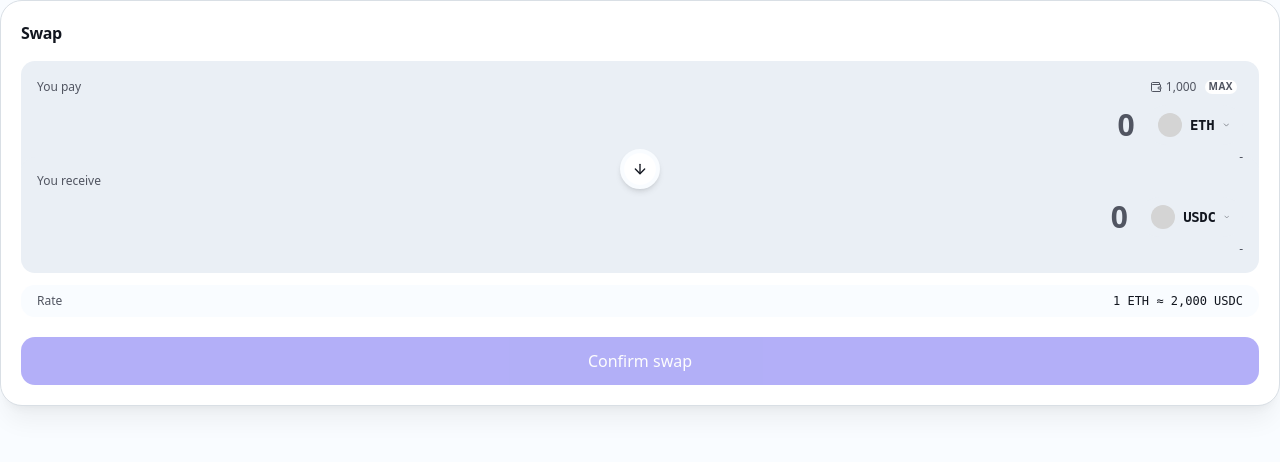
Test: <SwapForm /> › shows balance exceeded error when amount > balance
Type "999999999" into the field named "You pay amount". click: (586, 125)
box: [37, 107, 1134, 143]
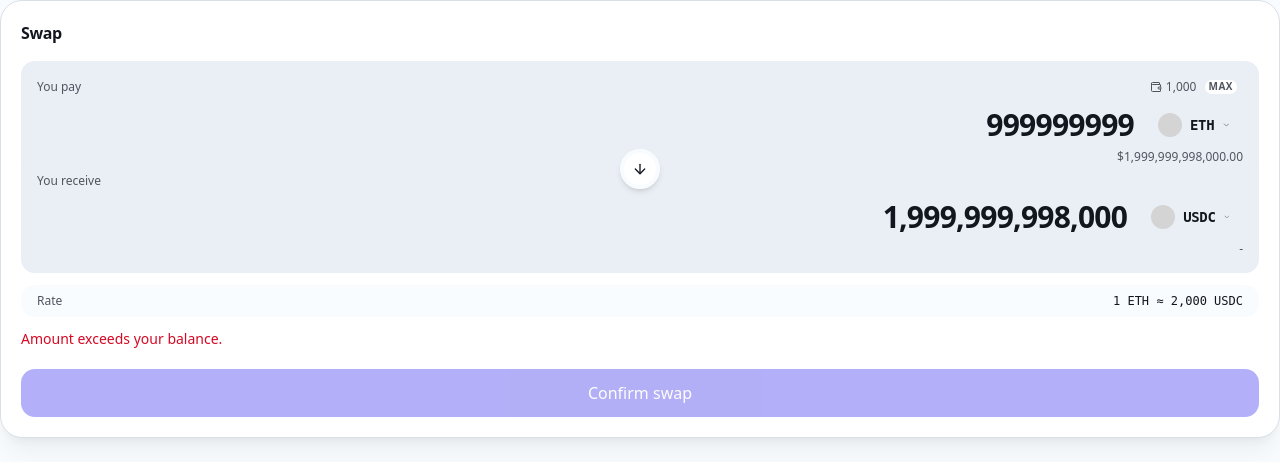
Check: the button "Confirm swap" is disabled, box [21, 369, 1259, 417]
Check: the text "Amount exceeds your balance." is shown, box [21, 329, 222, 348]
